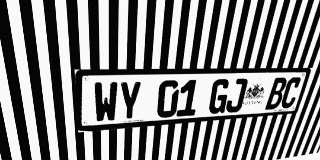0: (156, 80, 180, 118)
1: (176, 80, 200, 117)
B: (265, 77, 288, 110)
C: (279, 77, 303, 109)
G: (207, 79, 231, 114)
J: (225, 78, 248, 113)
W: (93, 82, 118, 123)
Y: (118, 81, 142, 121)
